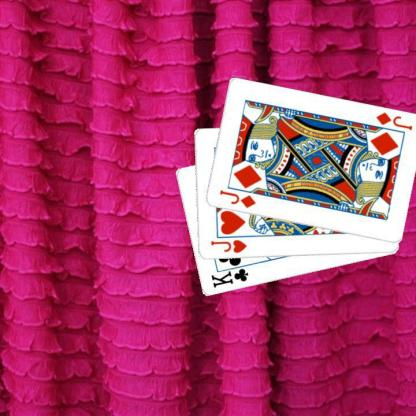JD: (216, 187, 257, 210), (373, 110, 413, 132)
JH: (208, 237, 248, 255)
KC: (209, 261, 252, 290)
